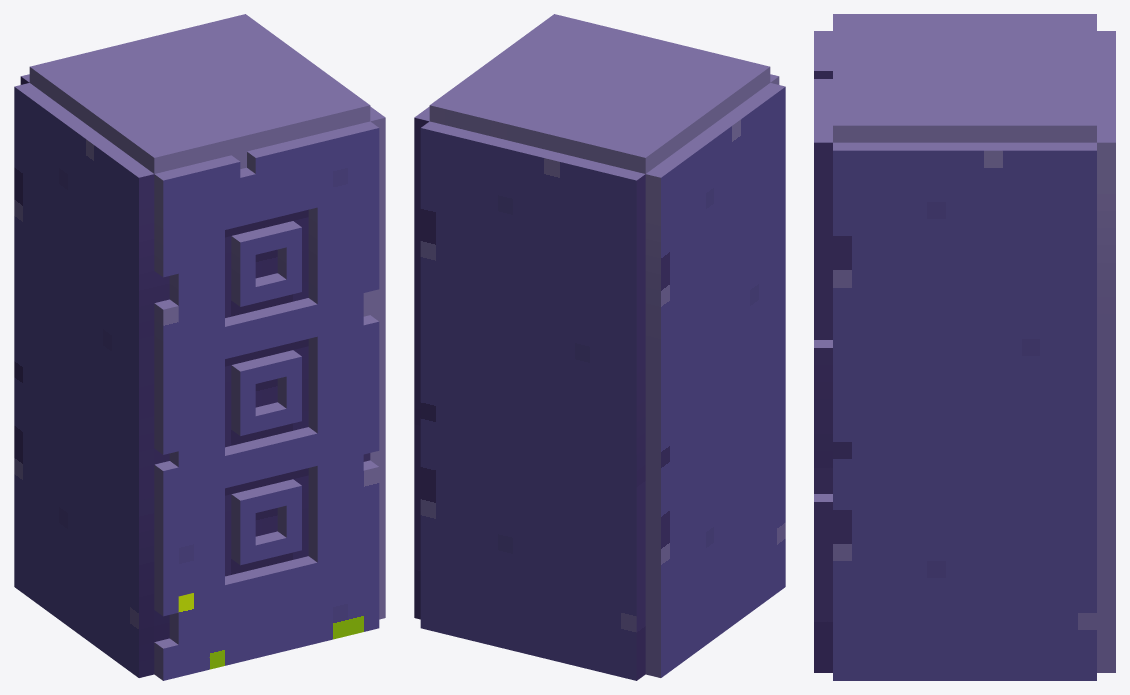
The model's file is 3-bit_doorao.fezao.glb.
3 views of the same model, side by side, from view 1: azimuth 30°, elevation 25°; view 2: azimuth 150°, elevation 25°; view 3: azimuth 270°, elevation 25° (orthographic). The views are drawn at different scales.
Parts seen in each view (by area): view 1: 3-BIT_DOORAO; view 2: 3-BIT_DOORAO; view 3: 3-BIT_DOORAO.
Boxes of the visible parts, bbox=[...] form: 3-BIT_DOORAO: bbox=[14, 14, 385, 680]; 3-BIT_DOORAO: bbox=[414, 14, 785, 680]; 3-BIT_DOORAO: bbox=[814, 14, 1115, 680].
Bounding box in the file's own units: 1 × 2 × 1.
Materials: 1 (1 with a texture image).
